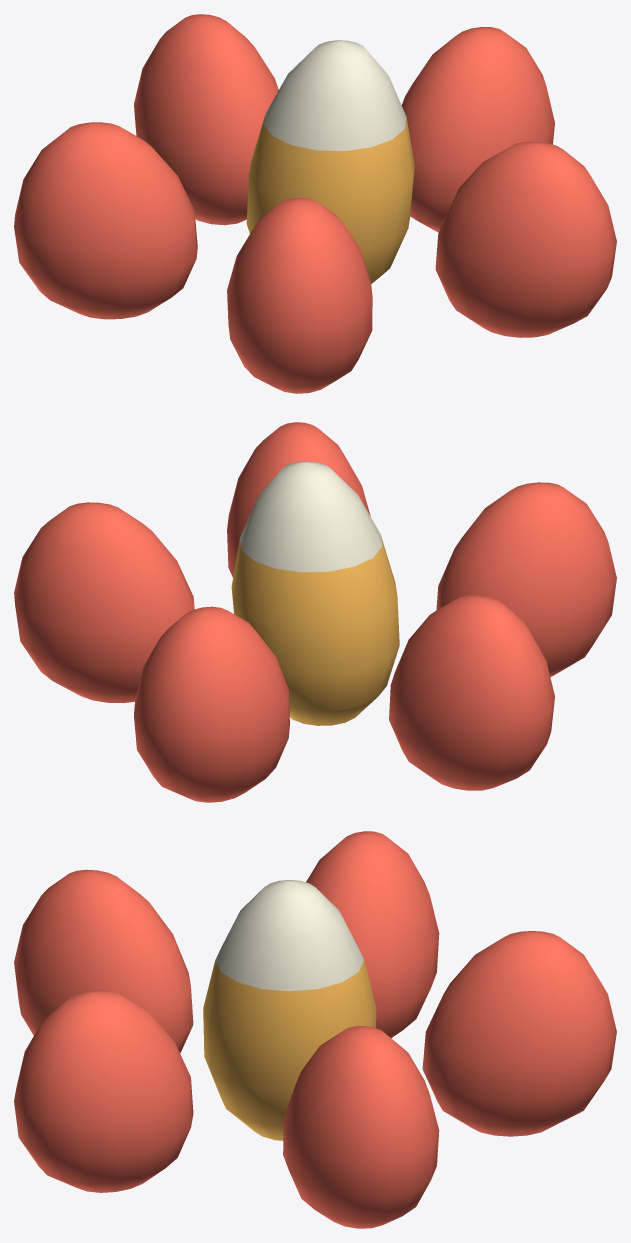
File: s05_explosion_carrier.glb
The picture shows the model from 3 angles, top to bottom: view 1: azimuth 30°, elevation 25°; view 2: azimuth 150°, elevation 25°; view 3: azimuth 270°, elevation 25°; orthographic projection. The views are drawn at different scales.
Visible parts, largest first — view 1: ExplosionCarrier; view 2: ExplosionCarrier; view 3: ExplosionCarrier.
Part boxes in pixels (<box>): ExplosionCarrier: <box>14,14,616,393</box>; ExplosionCarrier: <box>14,422,616,802</box>; ExplosionCarrier: <box>14,831,616,1228</box>.
Bounding box in the file's own units: 3.47 × 1.6 × 3.34.
